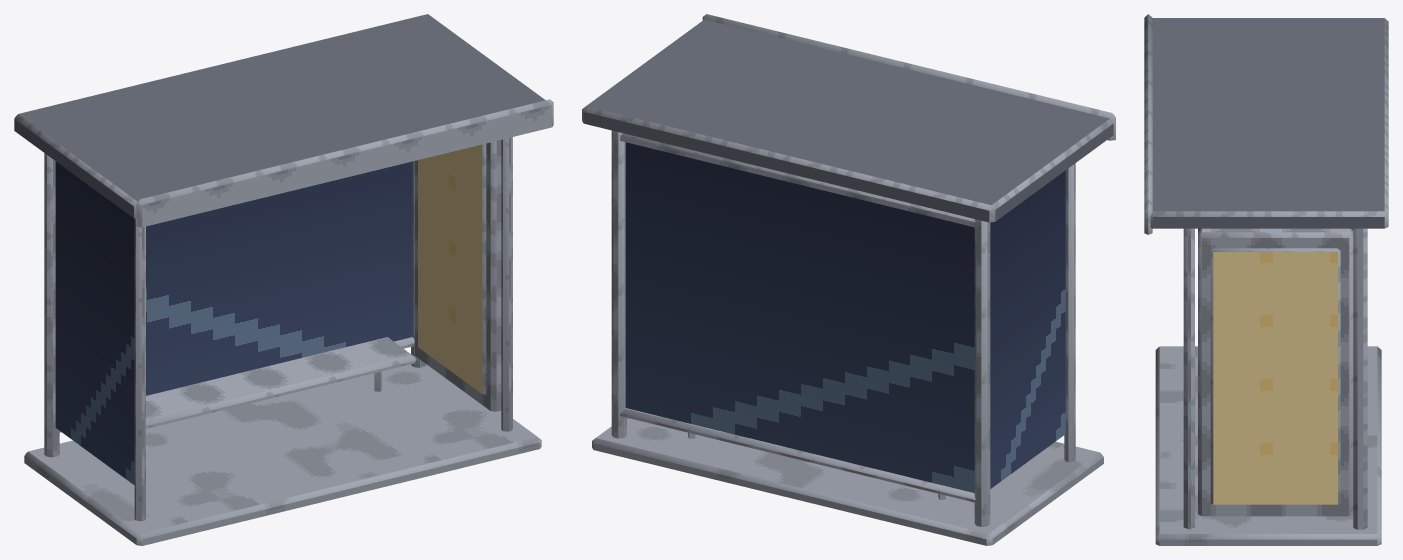
The model's file is bus_stop_0.glb.
3 renders of one model, left to right at view 1: azimuth 30°, elevation 25°; view 2: azimuth 150°, elevation 25°; view 3: azimuth 270°, elevation 25°, orthographic. The views are drawn at different scales.
Visible parts, largest first — view 1: bus_stop_1; view 2: bus_stop_1; view 3: bus_stop_1.
Boxes of the visible parts, x1,y1,x2,y2 form: bus_stop_1: (14, 14, 553, 545); bus_stop_1: (582, 14, 1115, 545); bus_stop_1: (1144, 14, 1388, 545).
Bounding box in the file's own units: 3.3 × 2.65 × 1.73.
Materials: 5 (5 with a texture image).
